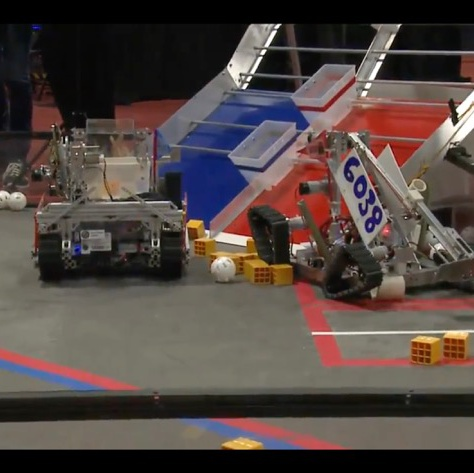robot: (243, 127, 474, 303), (30, 110, 192, 282)
